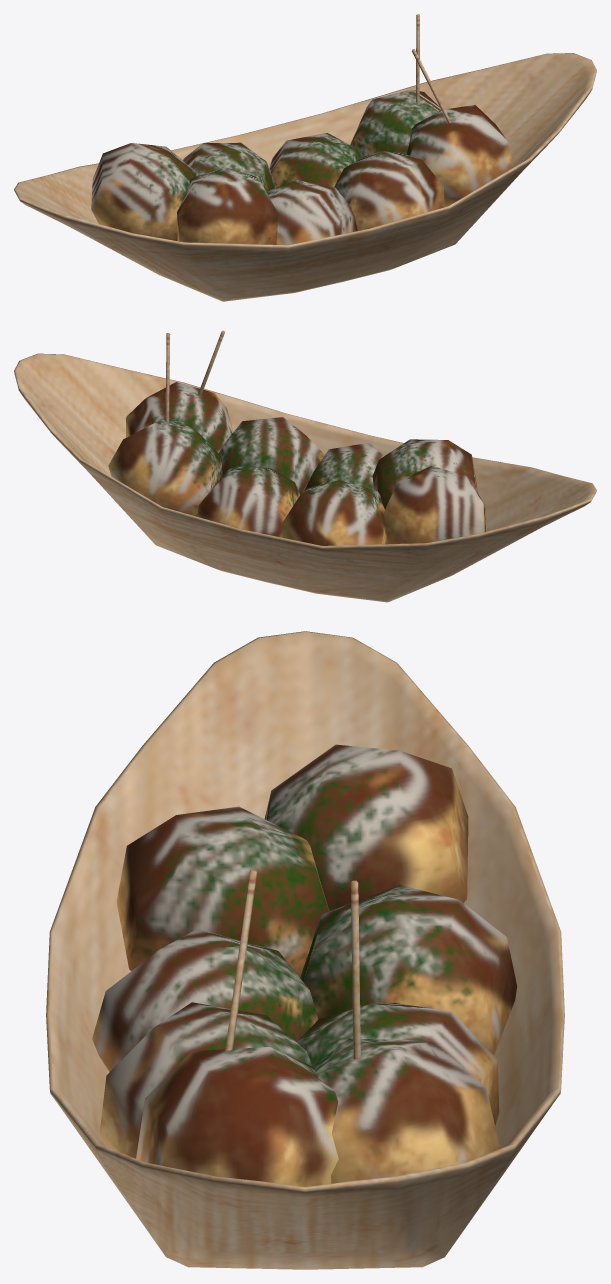
File: FoodProp_A.fbx
The picture shows the model from 3 angles, top to bottom: view 1: azimuth 30°, elevation 25°; view 2: azimuth 150°, elevation 25°; view 3: azimuth 270°, elevation 25°; orthographic projection. The views are drawn at different scales.
Visible parts, largest first — view 1: FoodProp_A; view 2: FoodProp_A; view 3: FoodProp_A.
Boxes of the visible parts, bbox=[...] form: FoodProp_A: bbox=[14, 14, 596, 301]; FoodProp_A: bbox=[14, 330, 596, 602]; FoodProp_A: bbox=[46, 631, 564, 1269].
Size of the model in its own units: 0.5097 by 0.1727 by 0.2001.
